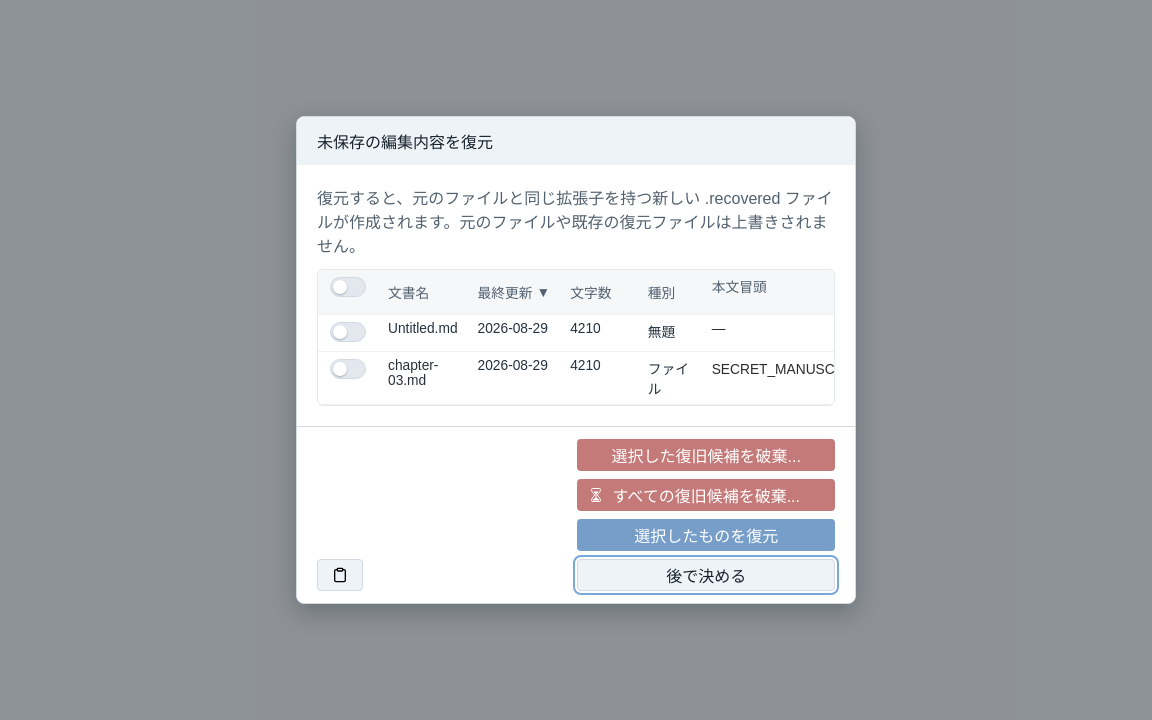
Test: RecoveryCandidateDialog behavior › Restore Selected enabled state (#288 follow-up) › becomes disabled again after unchecking the last selected candidate
Click the checkbox named "Untitled.md": (348, 332) [328,321,368,343]
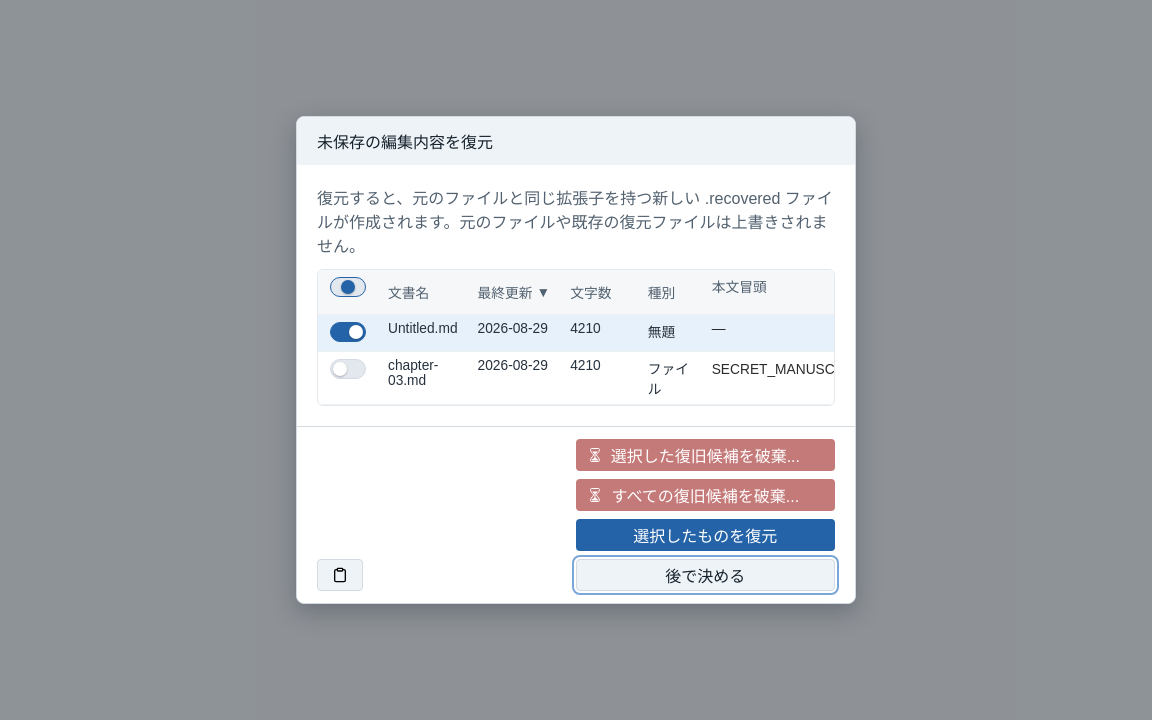
Click the checkbox named "chapter-03.md": (348, 369) [328,358,368,380]
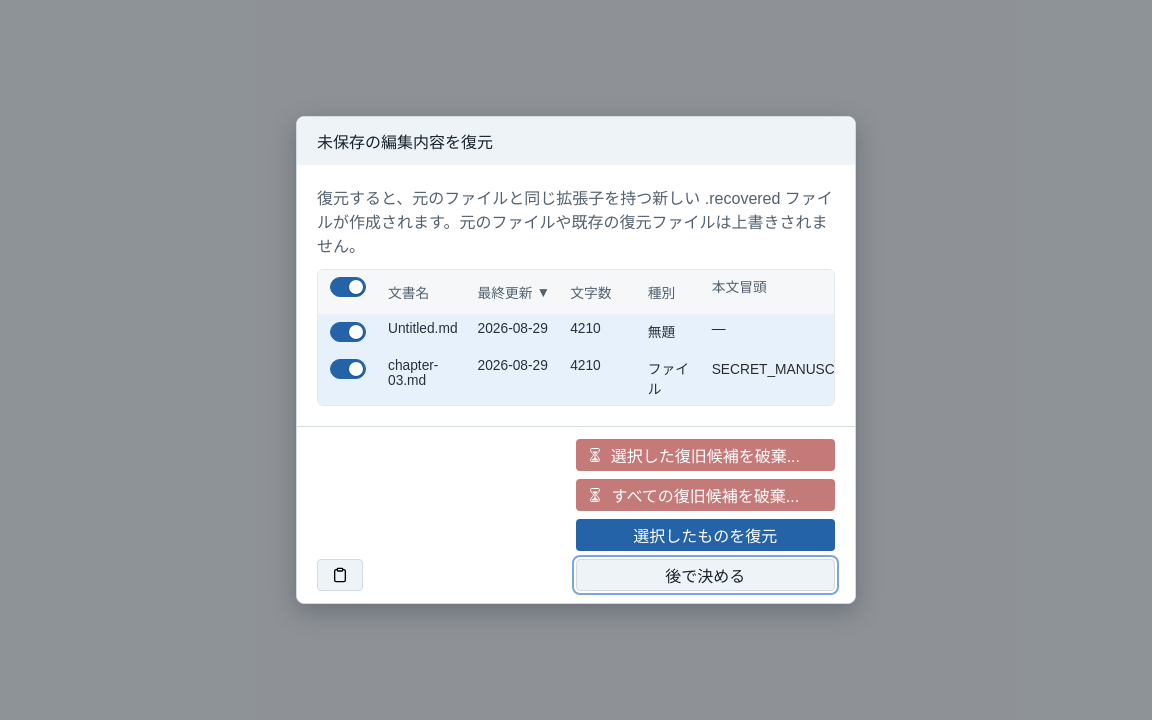
Expected: the button "選択したものを復元" is enabled, [576,519,835,551]
Click the checkbox named "Untitled.md": (348, 332) [328,321,368,343]
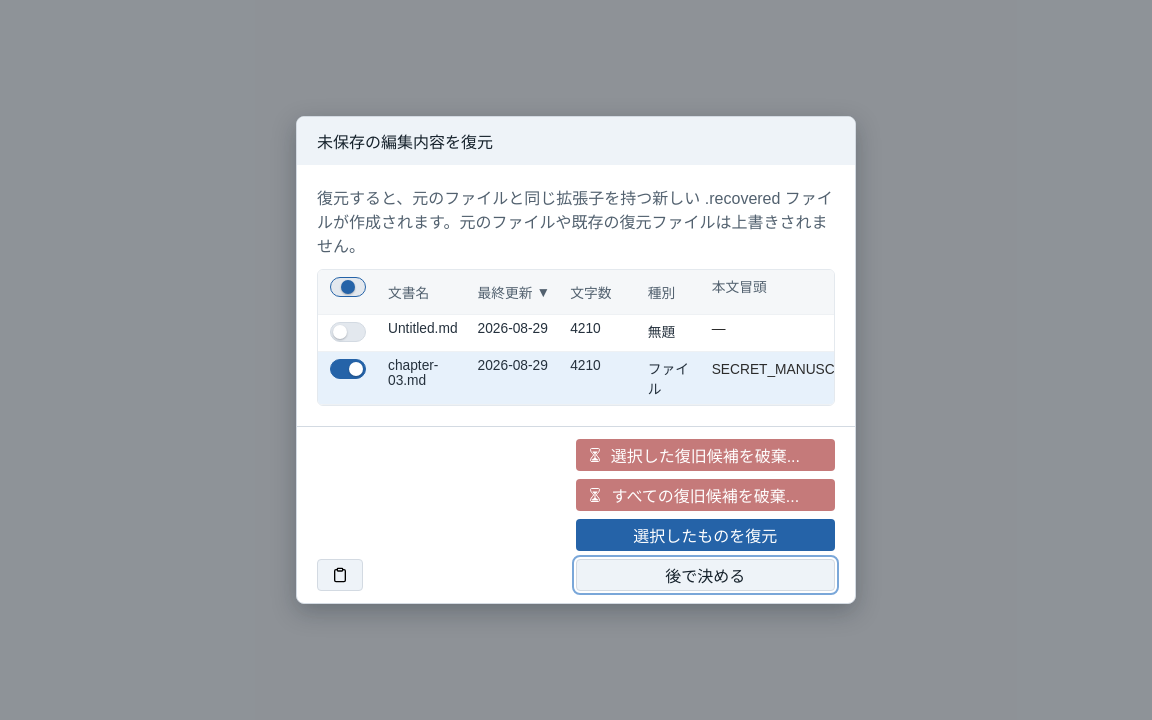
Expected: the button "選択したものを復元" is enabled, [576,519,835,551]
Click the checkbox named "chapter-03.md": (348, 369) [328,358,368,380]
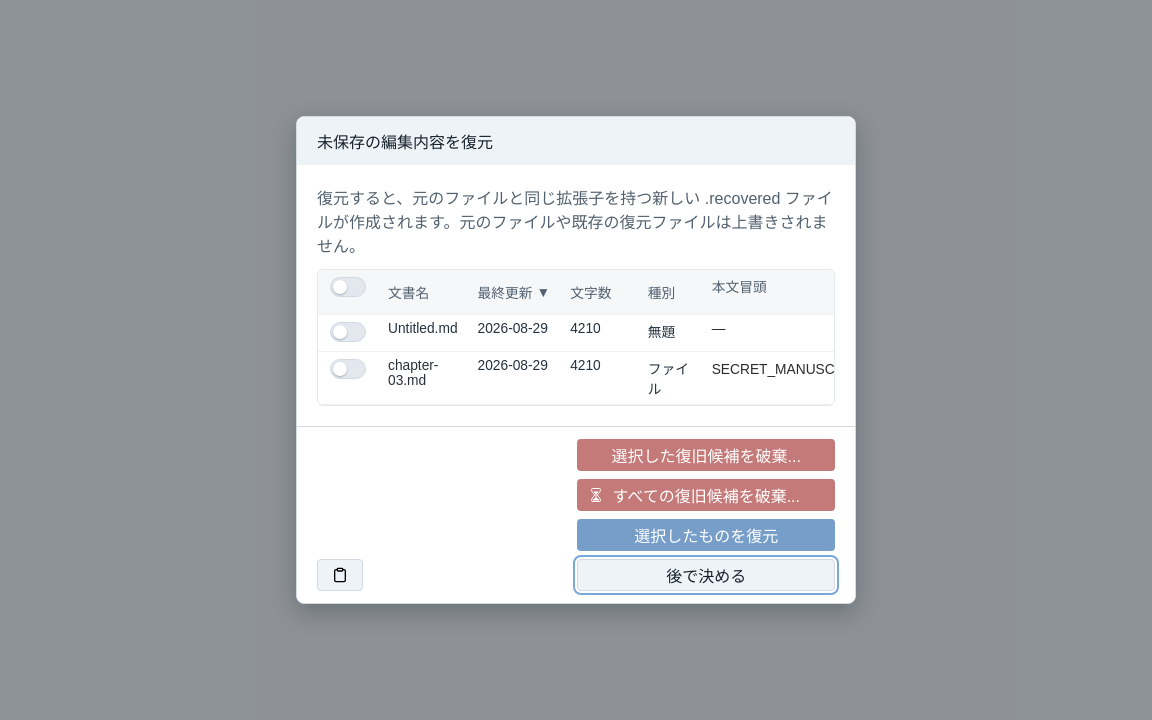
Expected: the button "選択したものを復元" is disabled, [577,519,835,551]
